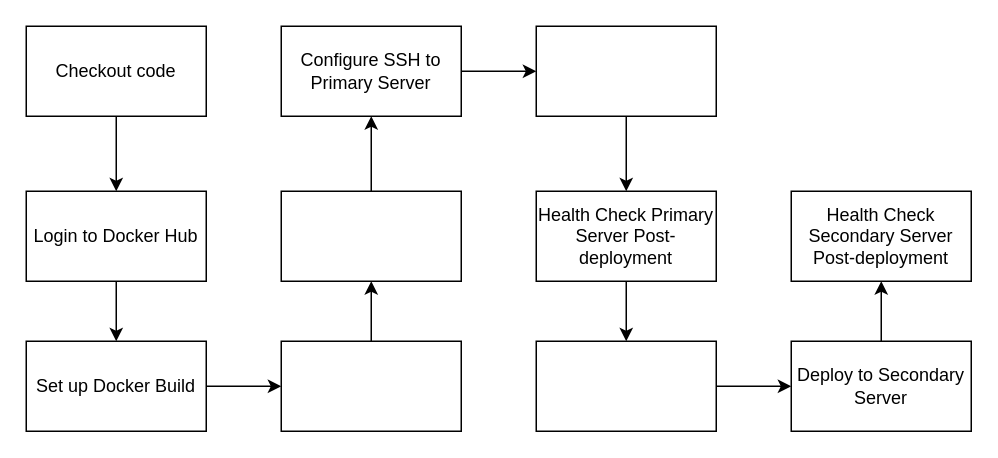
This 998x458 diagram has some shape labels left out. The shapes that lost their labels are listed below. From the top down, each one's centre as x and y in pixels, then its label:
point 625,70: Deploy to primary
point 370,235: Create Environment File
point 370,385: Build and push minitwitimage
point 625,385: Configure SSH to Secondary Server
